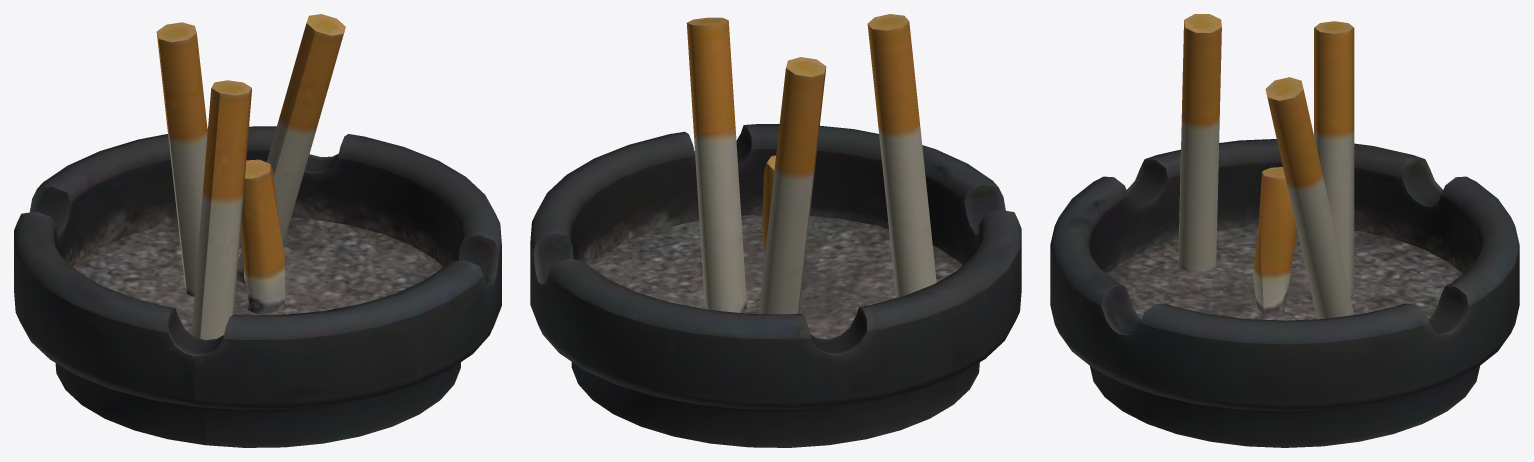
The model's file is ashtrayblack_b.glb.
3 views of the same model, side by side, from view 1: azimuth 30°, elevation 25°; view 2: azimuth 150°, elevation 25°; view 3: azimuth 270°, elevation 25° (orthographic). The views are drawn at different scales.
Visible parts, largest first — view 1: AshtrayBlack_b; view 2: AshtrayBlack_b; view 3: AshtrayBlack_b.
Boxes of the visible parts, x1,y1,x2,y2 form: AshtrayBlack_b: [14, 14, 501, 447]; AshtrayBlack_b: [530, 14, 1021, 447]; AshtrayBlack_b: [1050, 14, 1519, 447].
Bounding box in the file's own units: 0.1379 × 0.1017 × 0.1379.
Materials: 1 (1 with a texture image).
